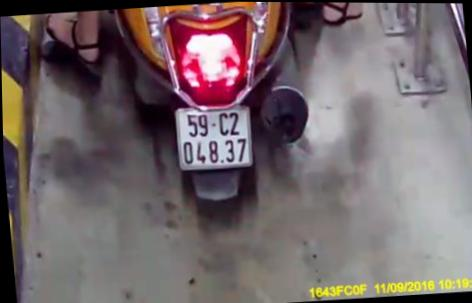LP: (173, 100, 254, 172)
